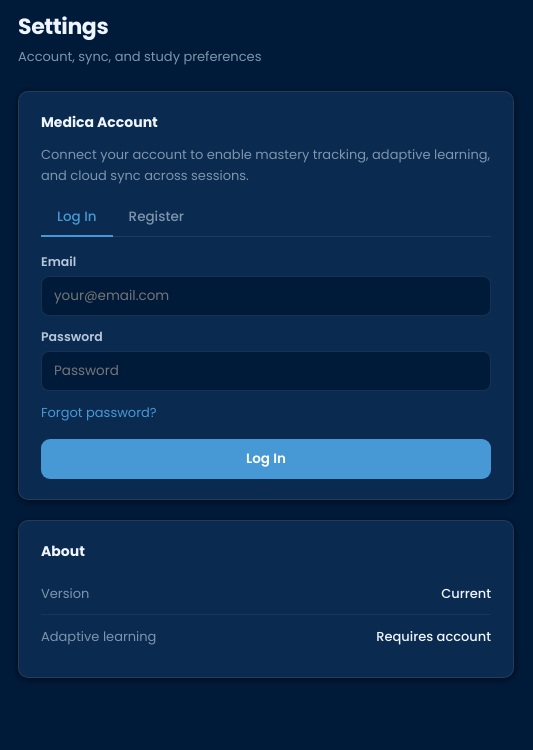
Scenario: SettingsPage form submission › shows the server error message for application-level errors
This screenshot has width=533, height=750.
Click the tab "Register" at point(156, 218), box [113,199,200,237]
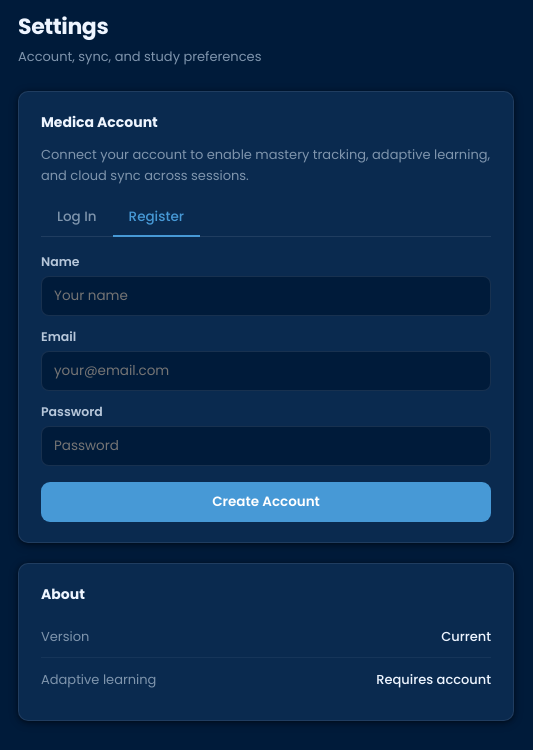
Type "Alice" into the field labelled "Name" at point(266, 296), box [41,276,491,316]
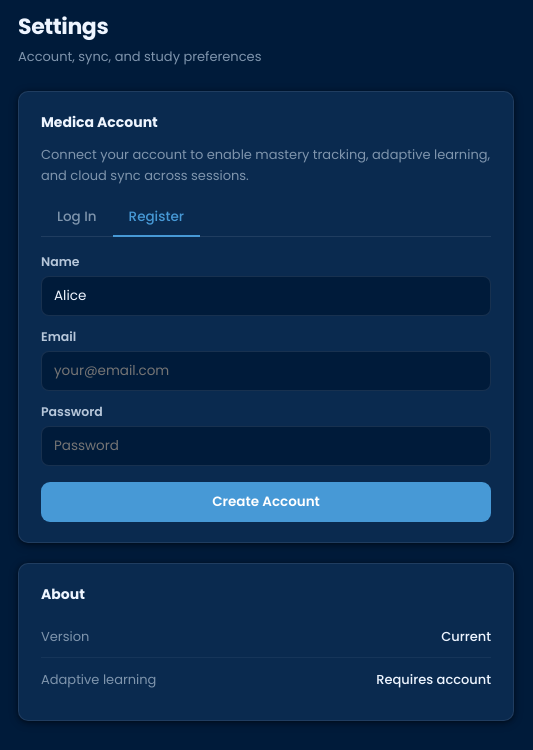
Type "alice@example.com" into the field labelled "Email" at point(266, 371), box [41,351,491,391]
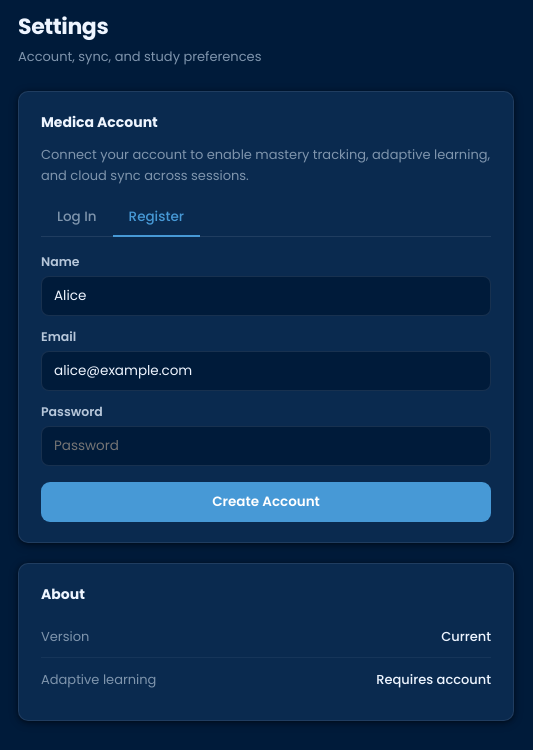
Type "Password1!" into the password field labelled "Password" at point(266, 446), box [41,426,491,466]
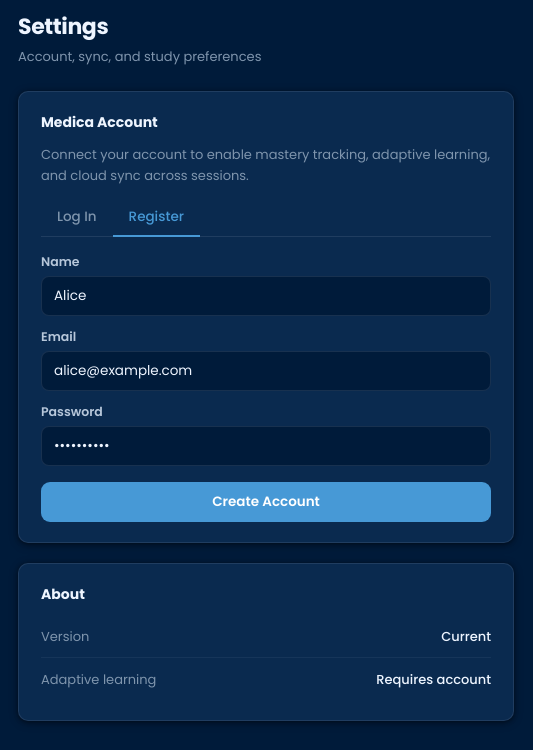
Click the button "Create Account" at point(266, 502), box [41,482,491,522]
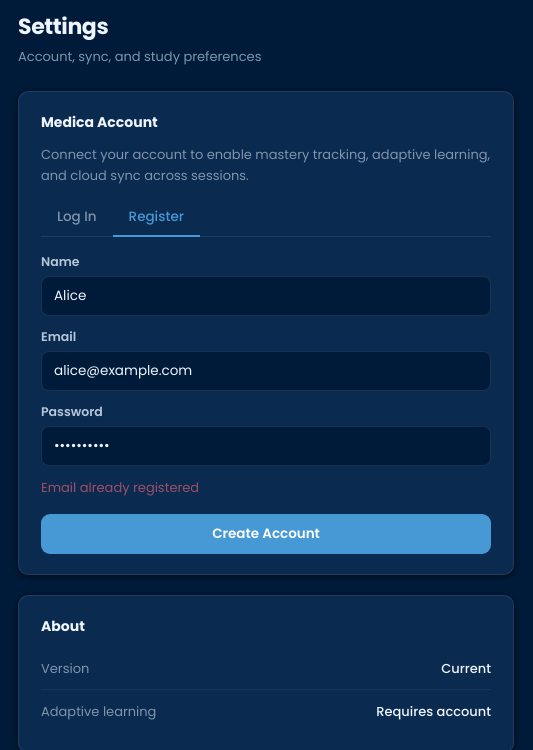
Expected: the text "Email already registered" is shown, [41,478,199,497]
